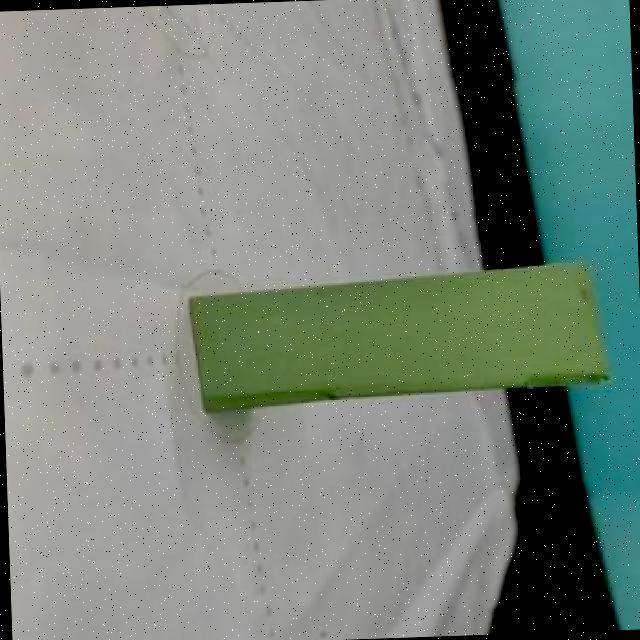greenbox: (187, 258, 608, 416)
